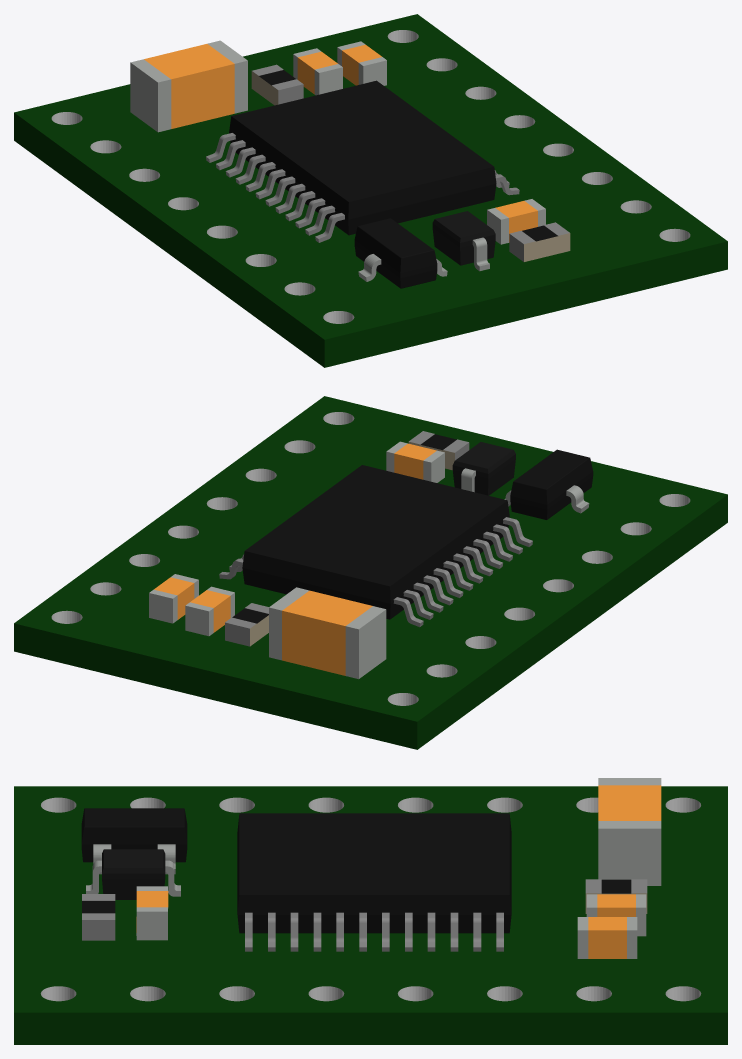
The model's file is pololu-tb6612fng.glb.
3 views of the same model, one above another, from view 1: azimuth 30°, elevation 25°; view 2: azimuth 150°, elevation 25°; view 3: azimuth 270°, elevation 25° (orthographic). The views are drawn at different scales.
Parts seen in each view (by area): view 1: pololu-tb6612fng; view 2: pololu-tb6612fng; view 3: pololu-tb6612fng.
Boxes of the visible parts, box(x1,y1,x2,y2) form: pololu-tb6612fng: box(14, 14, 727, 367); pololu-tb6612fng: box(14, 396, 727, 749); pololu-tb6612fng: box(14, 778, 727, 1044).
Size of the model in its own units: 15.24 by 2.82 by 20.32.
